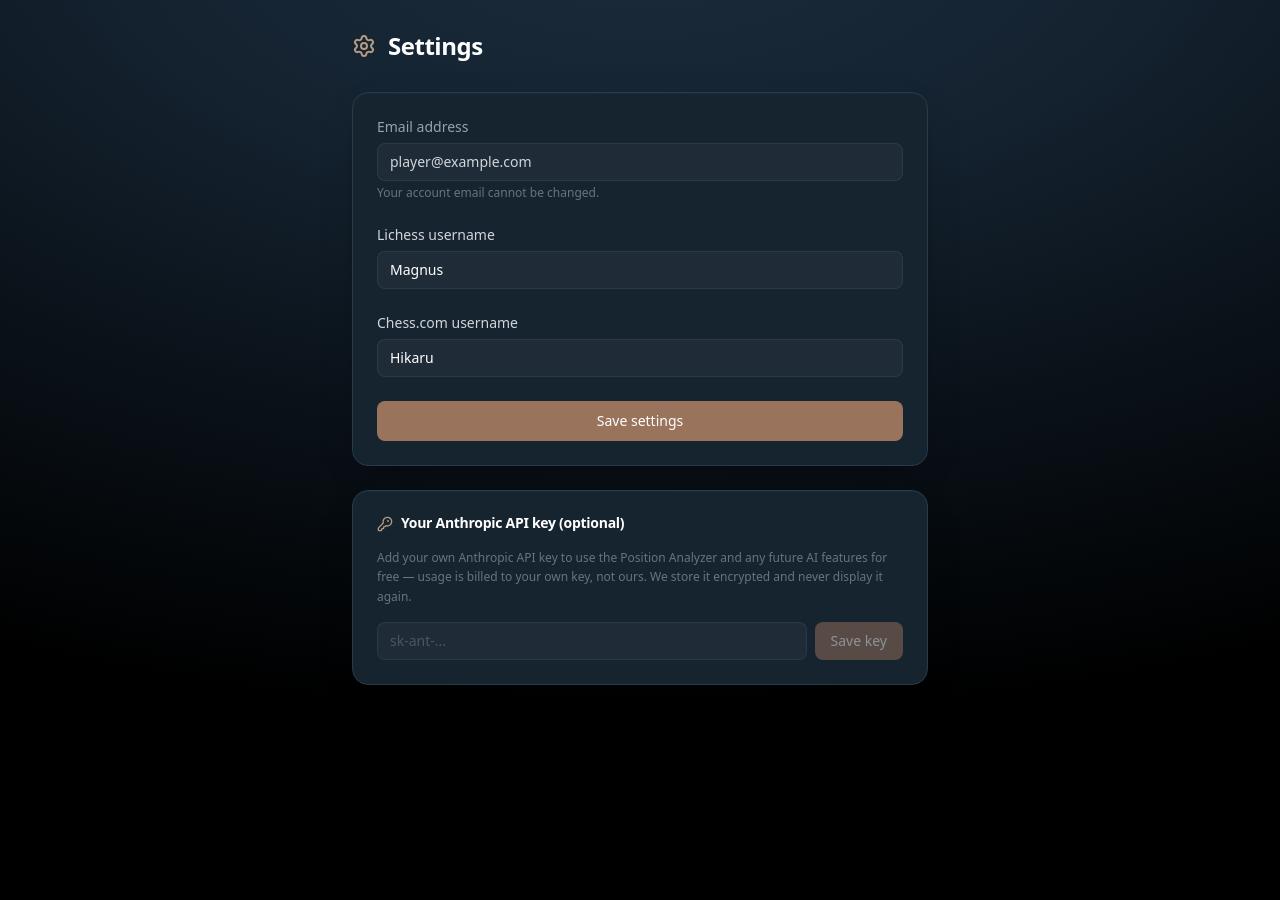
SettingsPage › shows an error message when api.updateMe rejects
What coordinates should you click on to do the following:
click the button "Save settings"
I would click on:
 (640, 421)
Its box is x1=377 y1=401 x2=903 y2=441.
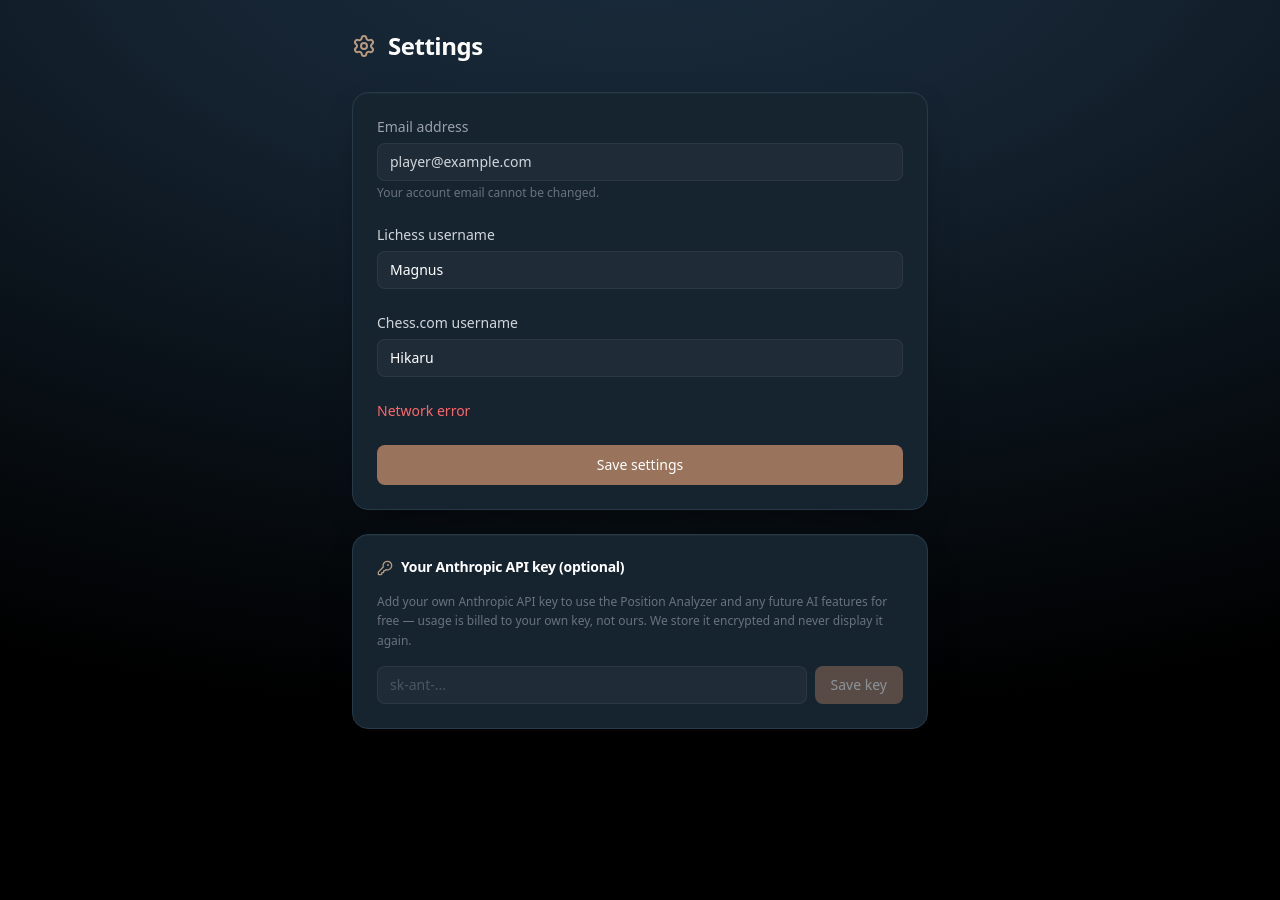
Check: the message reads "Network error", box x1=377 y1=401 x2=470 y2=420
